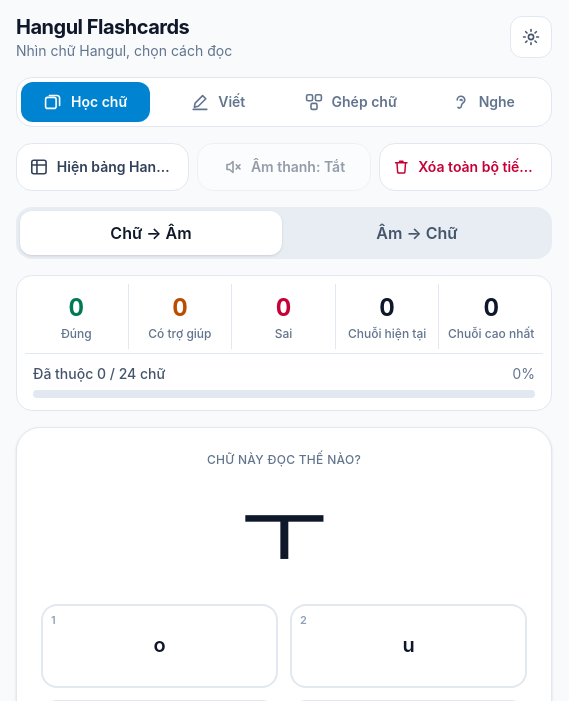
Test: App › never lets the last remaining category be switched off
Click the button named "Mở bảng cài đặt bộ chữ" at (531, 37), box [510, 16, 552, 58]
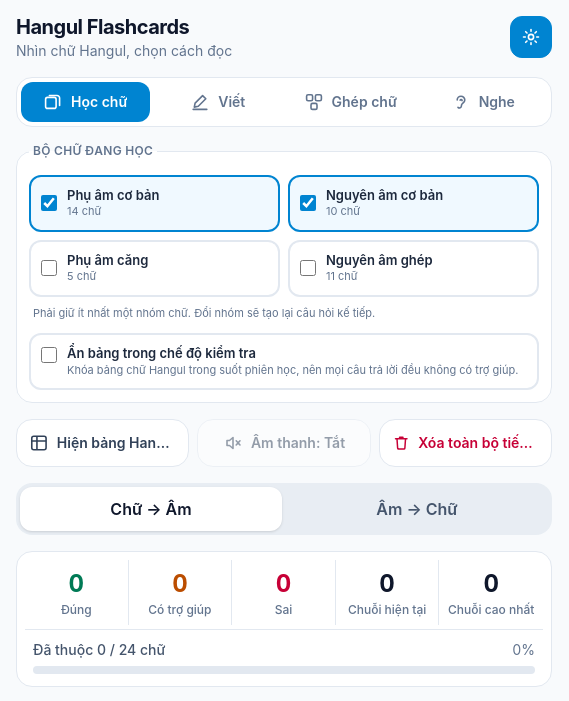
Click the checkbox labelled "Nguyên âm cơ bản 10 chữ" at (308, 203), box [300, 195, 316, 211]
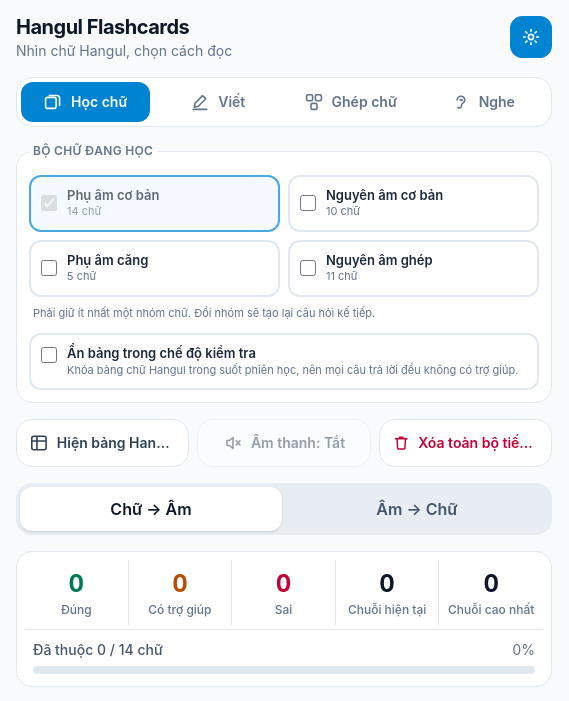
Expected: the checkbox labelled "Phụ âm cơ bản 14 chữ" is disabled, [41, 195, 57, 211]
